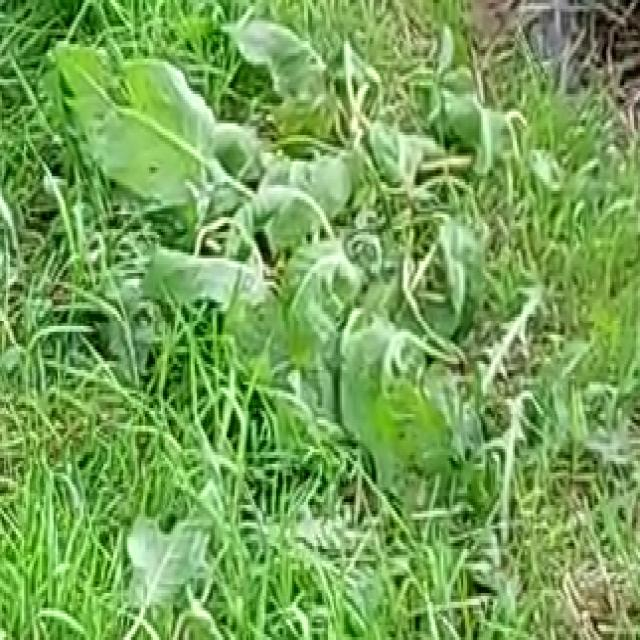organic waste: (56, 0, 421, 364), (191, 97, 485, 496)
